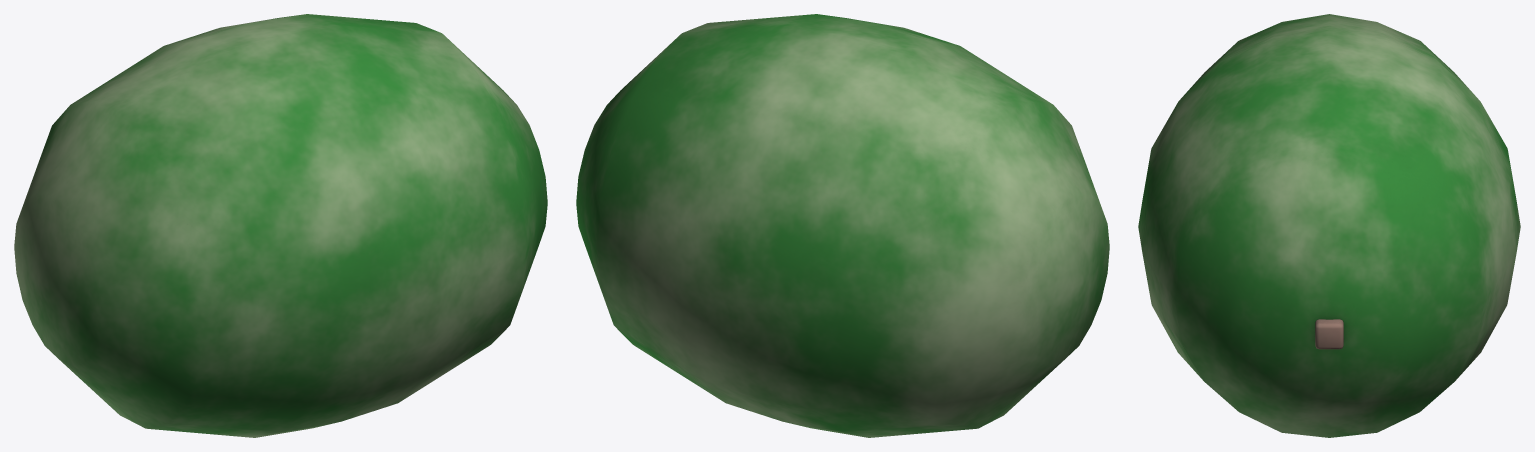
The model's file is watermelon.fbx.
3 views of the same model, side by side, from view 1: azimuth 30°, elevation 25°; view 2: azimuth 150°, elevation 25°; view 3: azimuth 270°, elevation 25° (orthographic). The views are drawn at different scales.
Visible parts, largest first — view 1: Body; view 2: Body; view 3: Body.
Part boxes in pixels (x1,y1,x2,y2): Body: (14,14,547,437); Body: (576,14,1109,437); Body: (1138,14,1520,437).
Size of the model in its own units: 1.26 by 0.9344 by 0.9379.
Materials: 1 (1 with a texture image).
